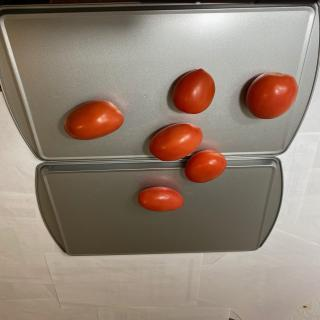Tomato: (246, 72, 298, 119), (64, 100, 124, 140), (149, 123, 203, 161), (172, 68, 215, 114), (184, 149, 227, 183), (138, 186, 185, 212)
